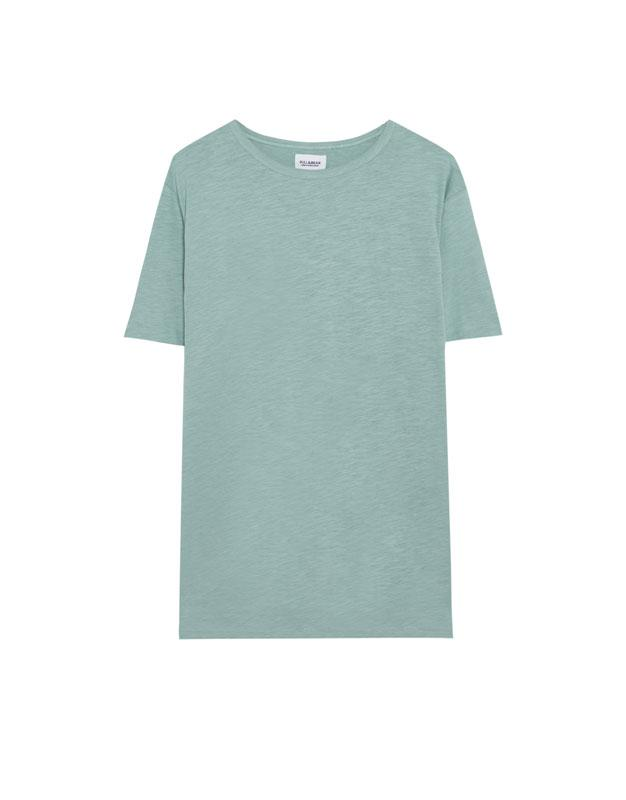teeshirt: (106, 107, 525, 685)
